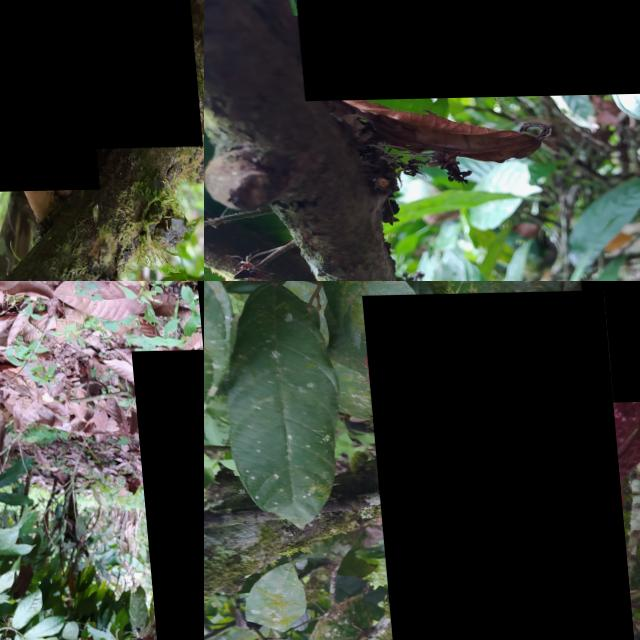Fitoftora: (286, 0, 640, 101), (22, 0, 194, 150), (0, 0, 90, 193)
Monilia: (361, 292, 627, 640)
Sana: (128, 350, 204, 640), (555, 318, 640, 488), (578, 281, 640, 405)
